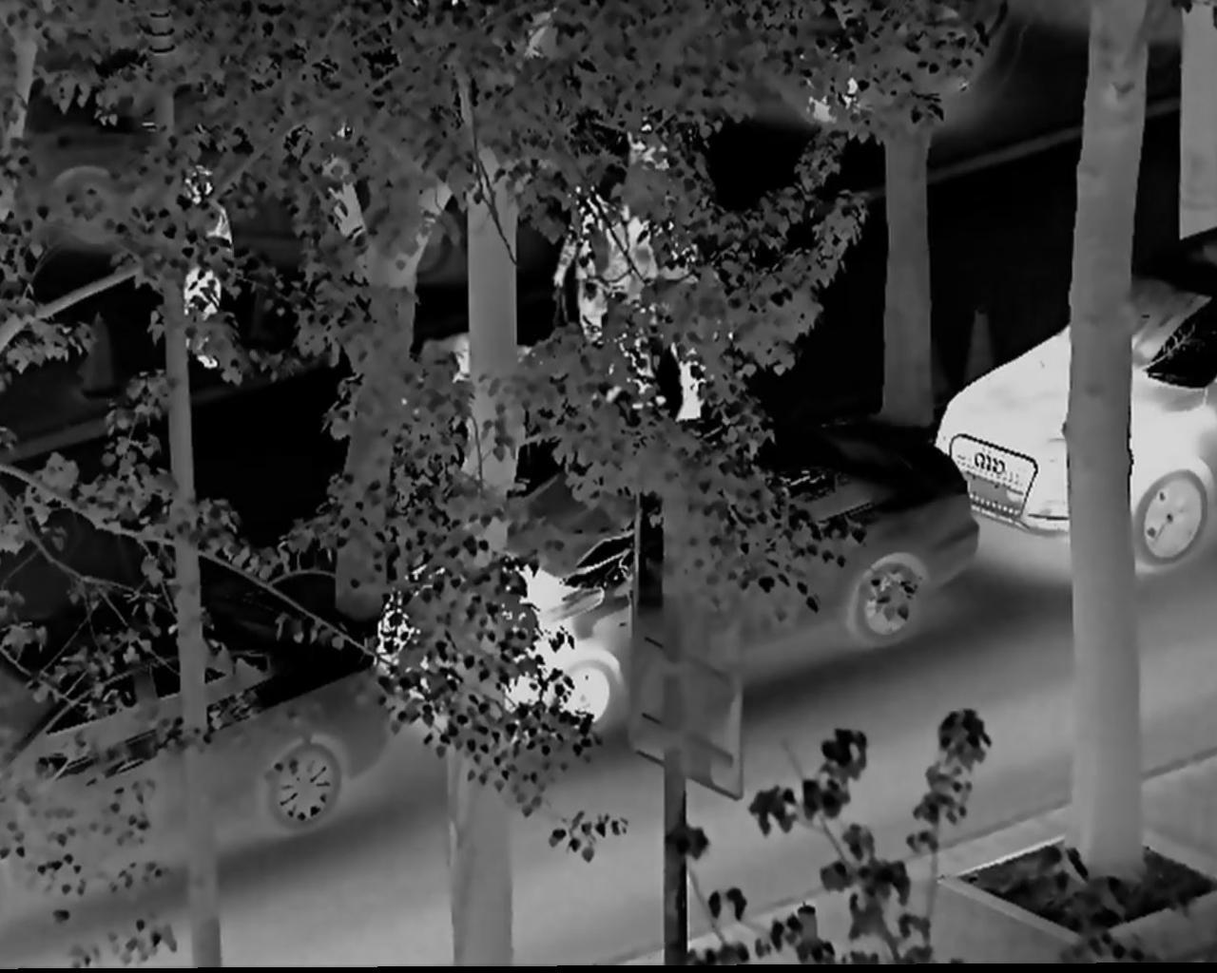person: (550, 164, 648, 396), (165, 165, 233, 372)
